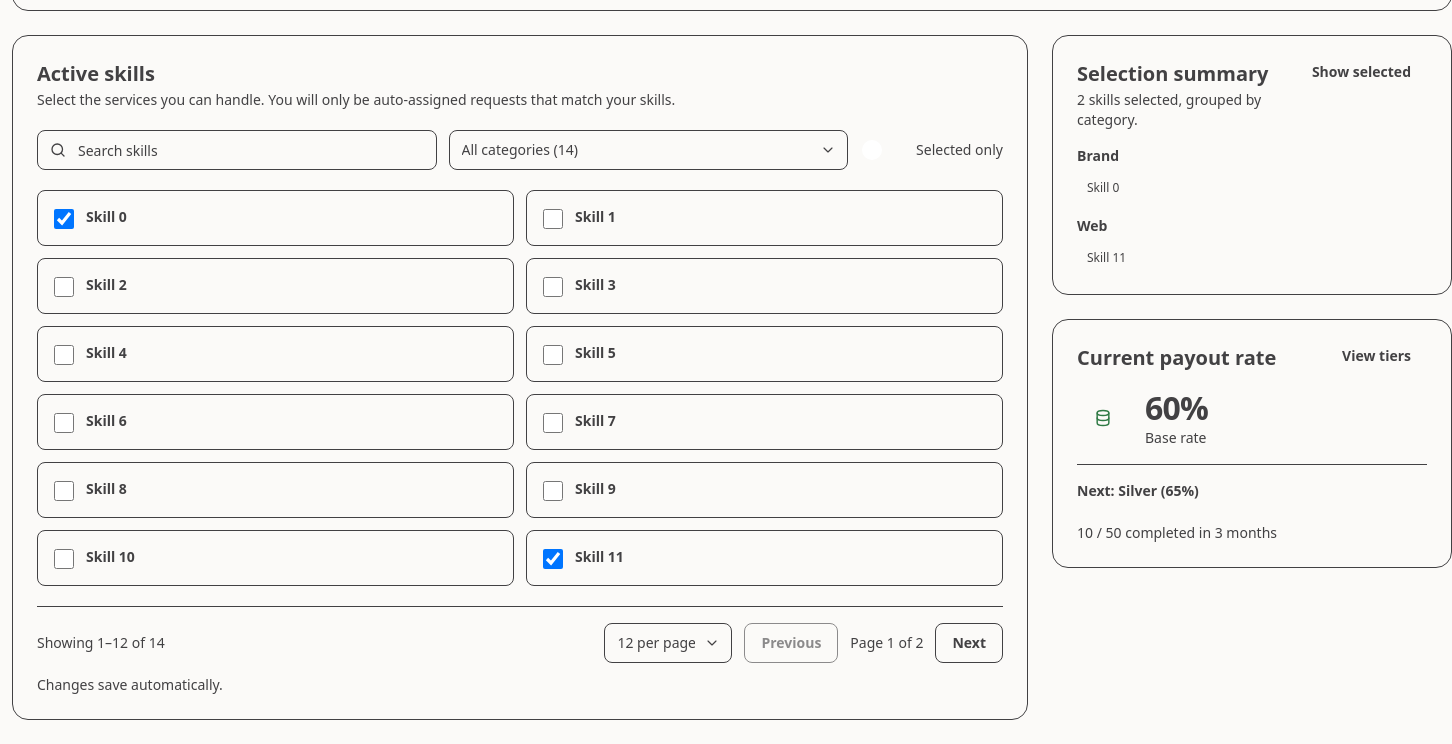
Creative settings: skills › pages the list and returns to the first page when a filter changes
(page scrolled)
Expected: the checkbox labelled "Skill 0" is shown, [54, 209, 74, 229]
Expected: the text "Showing 1–12 of 14" is shown, [37, 633, 165, 653]
Click the button "Next". click: {"x": 969, "y": 643}
box: [936, 623, 1003, 663]
(page scrolled)
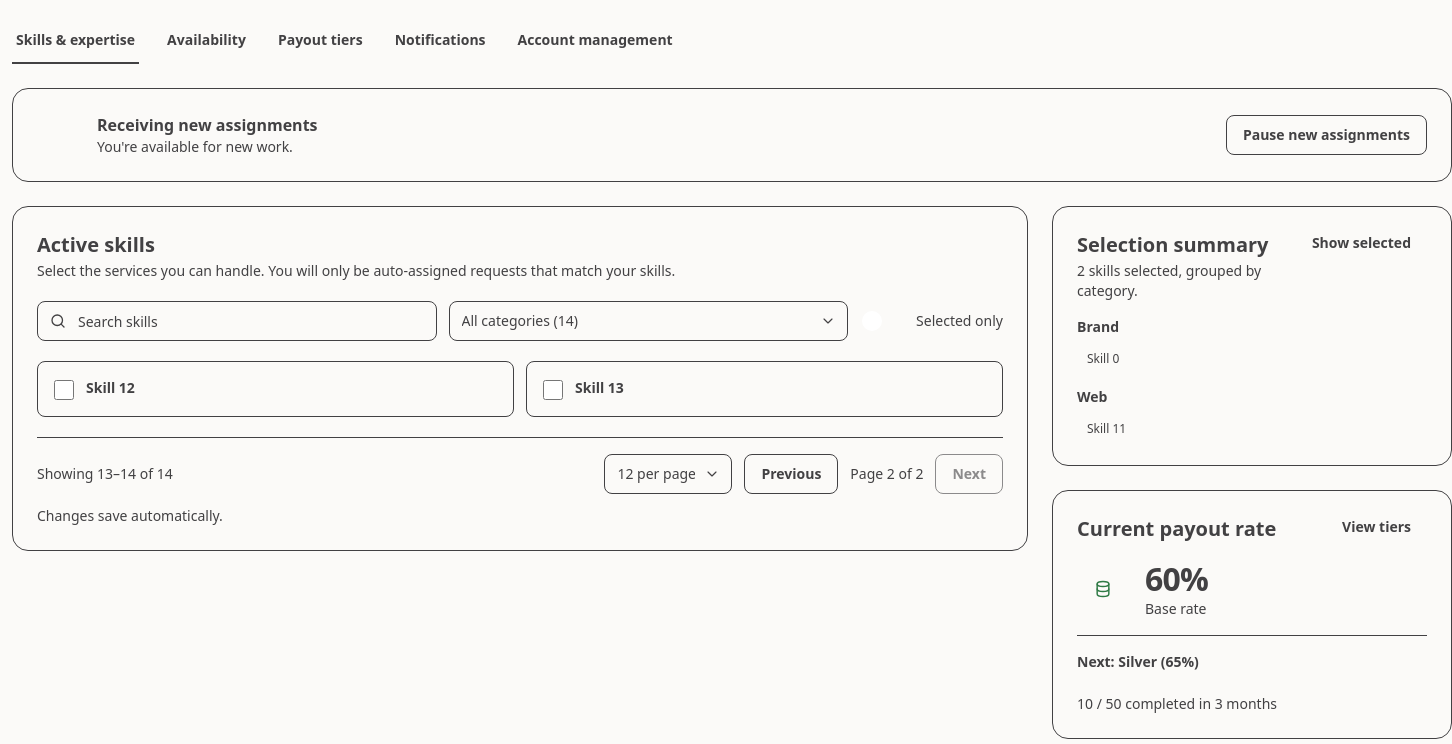
Expected: the text "Skill 12" is shown, [86, 378, 135, 398]
Select "Brand (10)" in the dropdown named "Skill category". click: {"x": 648, "y": 321}
box: [448, 301, 848, 341]
(page scrolled)
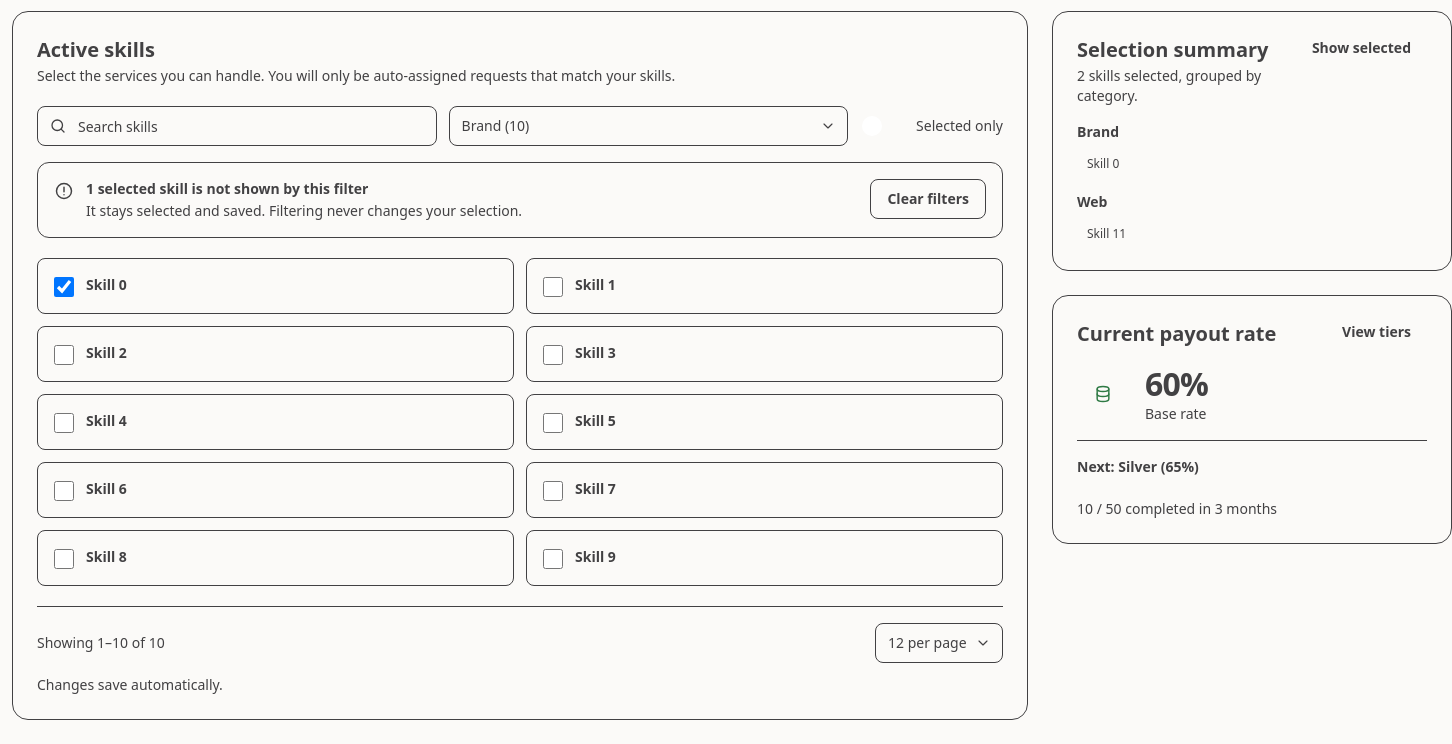
Expected: the text "Showing 1–10 of 10" is shown, [37, 633, 165, 653]
